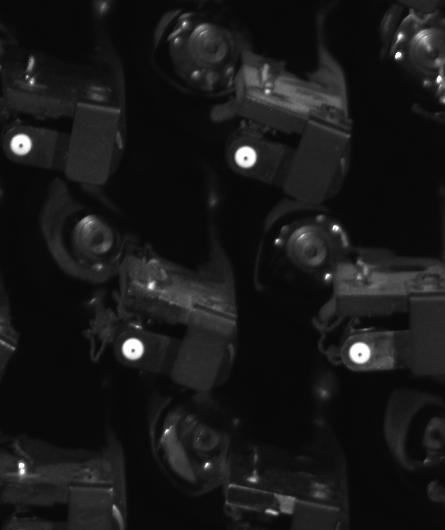fiber: (117, 331, 157, 368), (228, 138, 263, 176), (345, 335, 378, 372), (7, 128, 40, 161)
